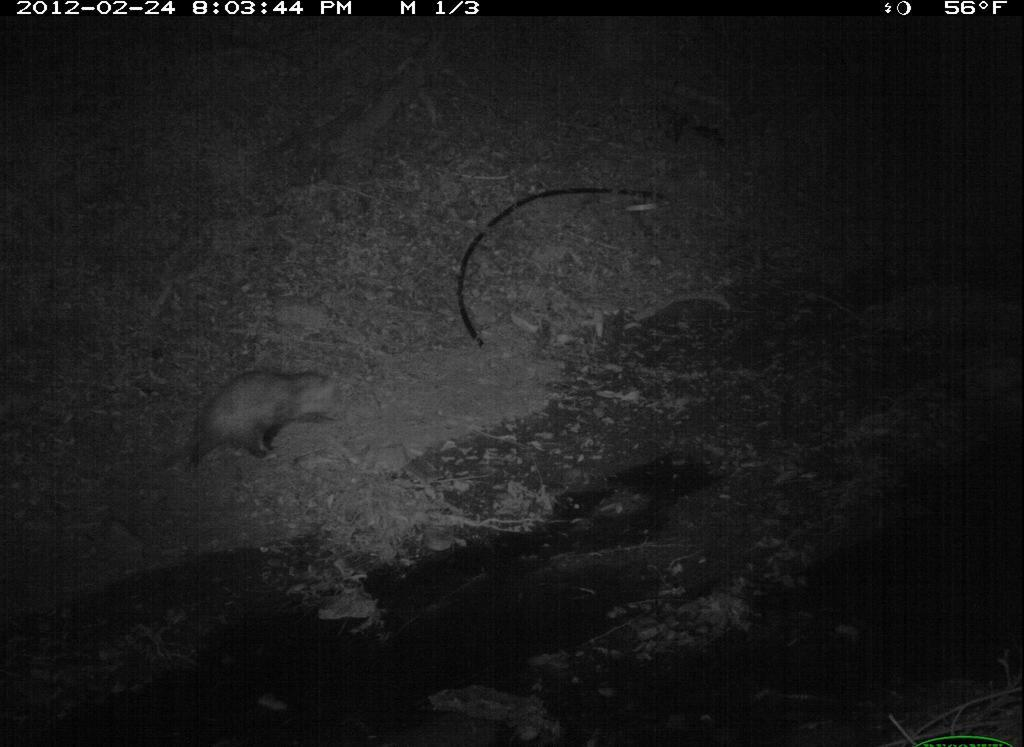opossum: (176, 365, 361, 473)
